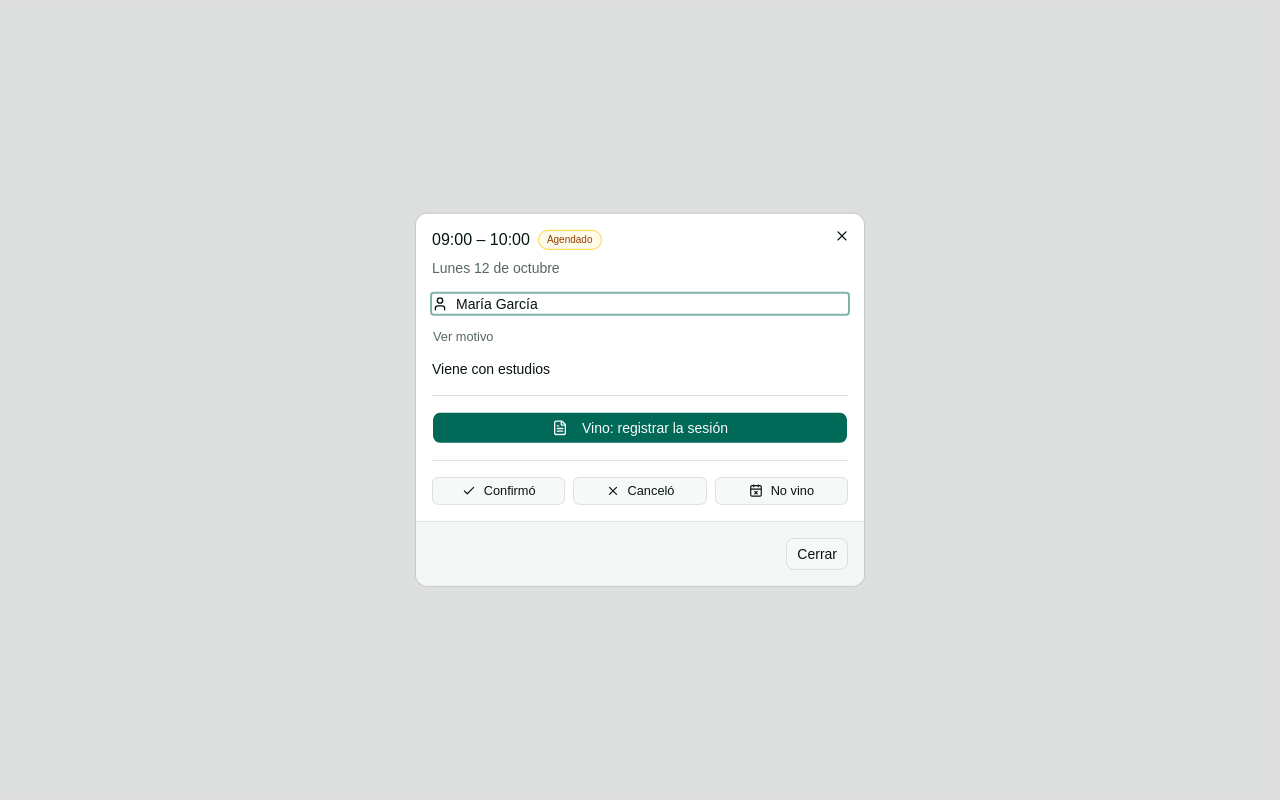
Test: AppointmentDetailDialog › reads no complaint until "Ver motivo"
The width and height of the screenshot is (1280, 800).
Expected: the text "Viene con estudios" is shown, [432,361,550,377]
Expected: the text "Lumbalgia" is not shown
Click the button "Ver motivo" at (463, 337), box [432,327,494,347]
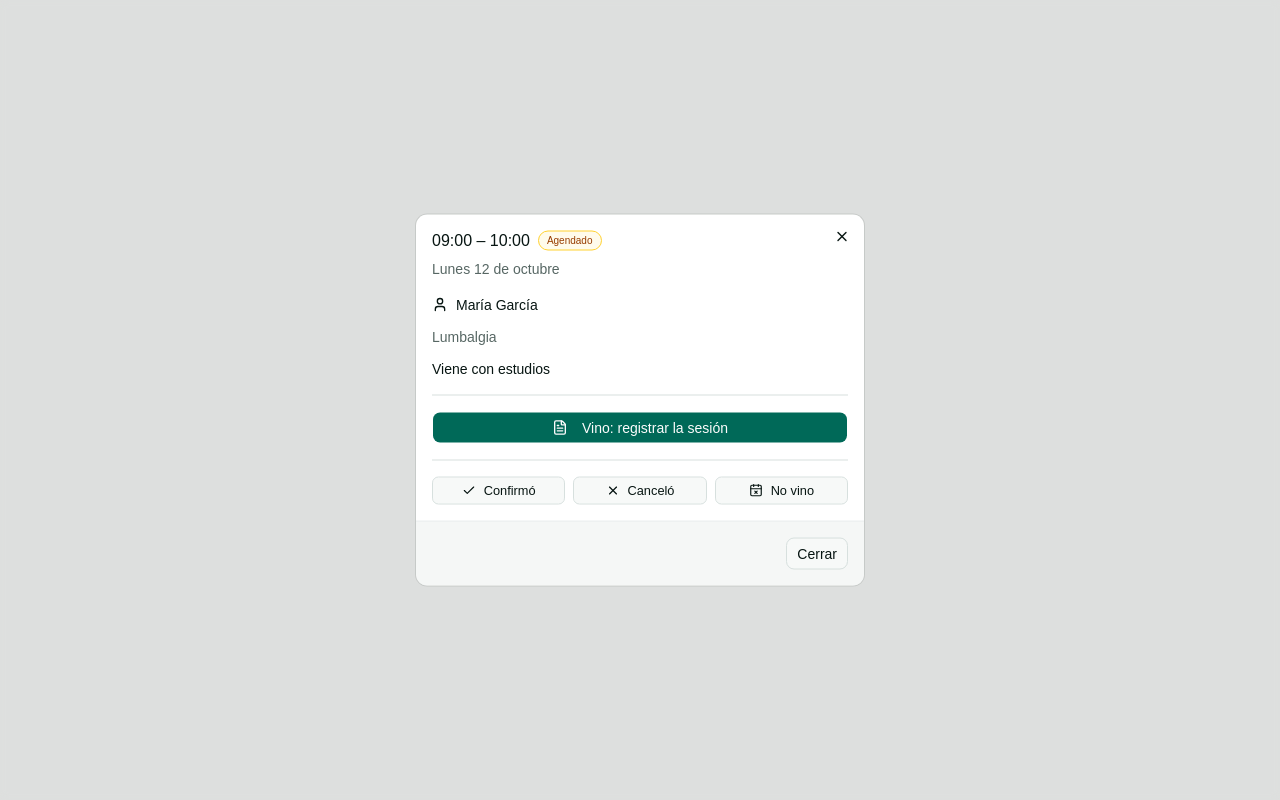
Now the text "Lumbalgia" is shown, box [432,328,497,344]
